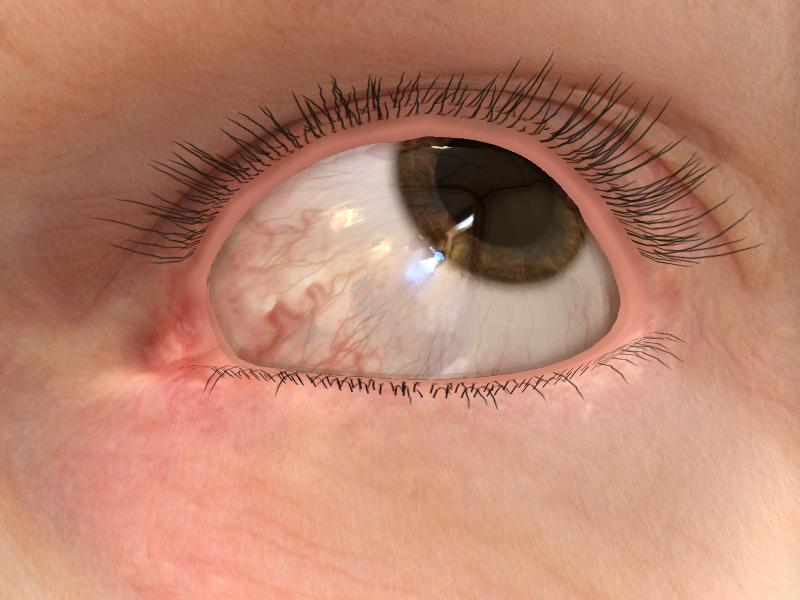eye: (391, 134, 593, 290)
